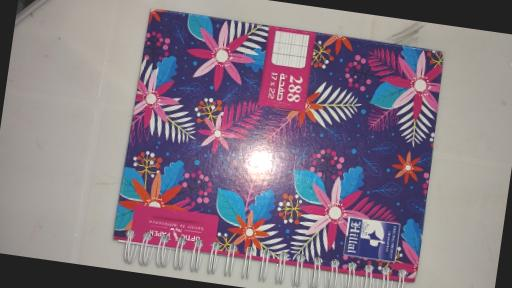notebook: (112, 8, 447, 288)
